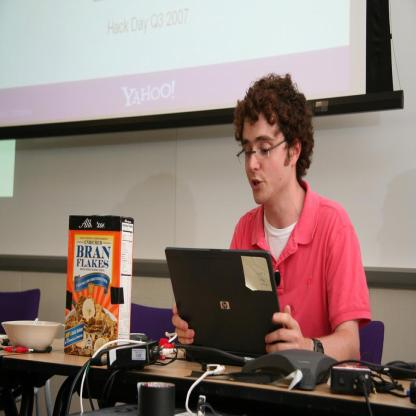board: (163, 254, 288, 372)
